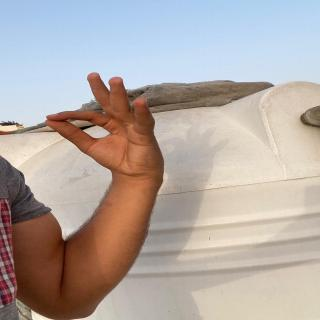Space: (44, 65, 163, 183)
